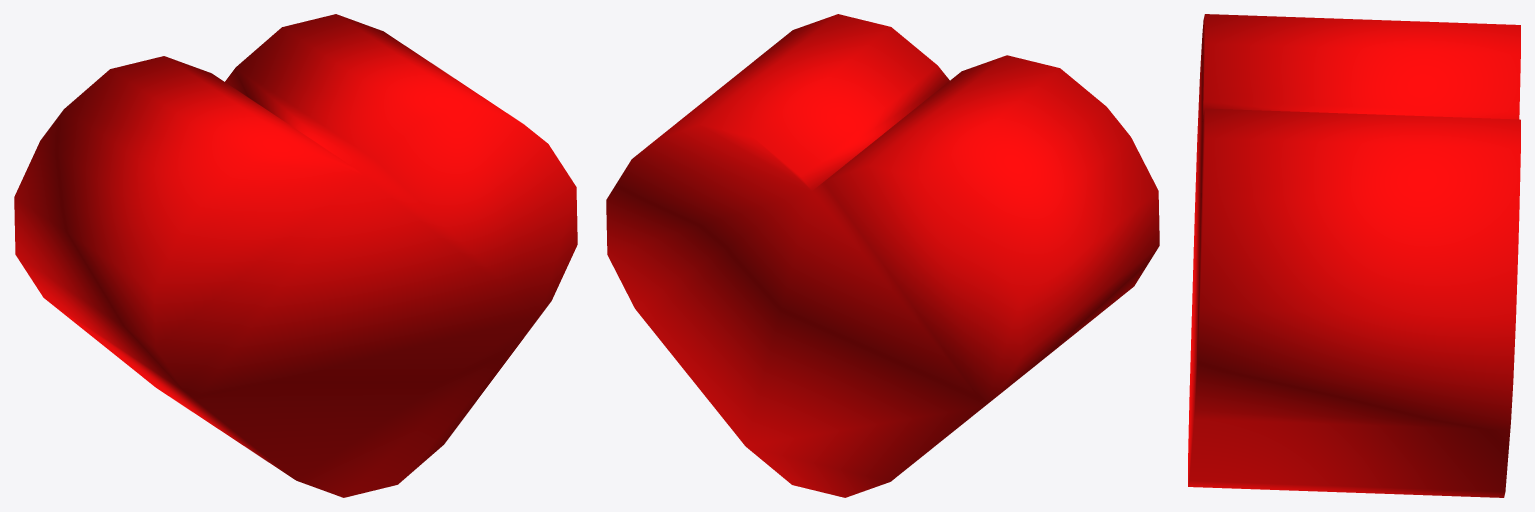
File: Heart Cosmetic.fbx
3 views of the same model, side by side, from view 1: azimuth 30°, elevation 25°; view 2: azimuth 150°, elevation 25°; view 3: azimuth 270°, elevation 25° (orthographic). The views are drawn at different scales.
Parts seen in each view (by area): view 1: Cube; view 2: Cube; view 3: Cube.
Boxes of the visible parts, x1,y1,x2,y2 form: Cube: [14, 14, 577, 497]; Cube: [606, 14, 1159, 497]; Cube: [1188, 14, 1520, 497].
Bounding box in the file's own units: 168 × 137 × 102.
